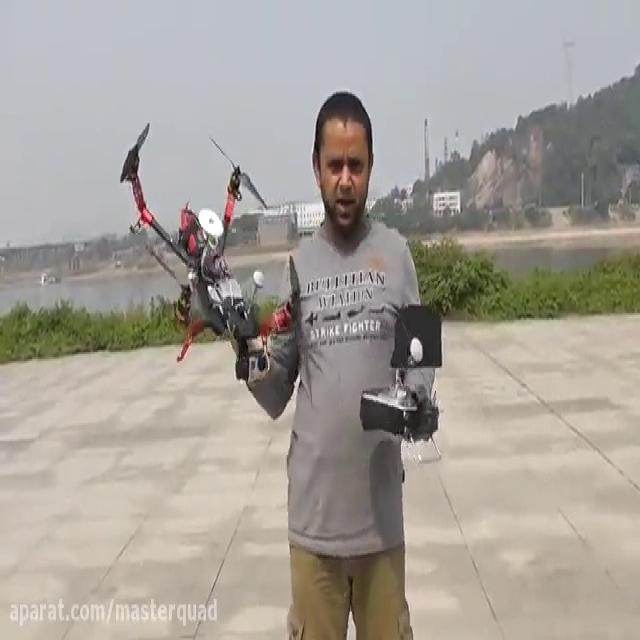drone: (117, 121, 302, 380)
